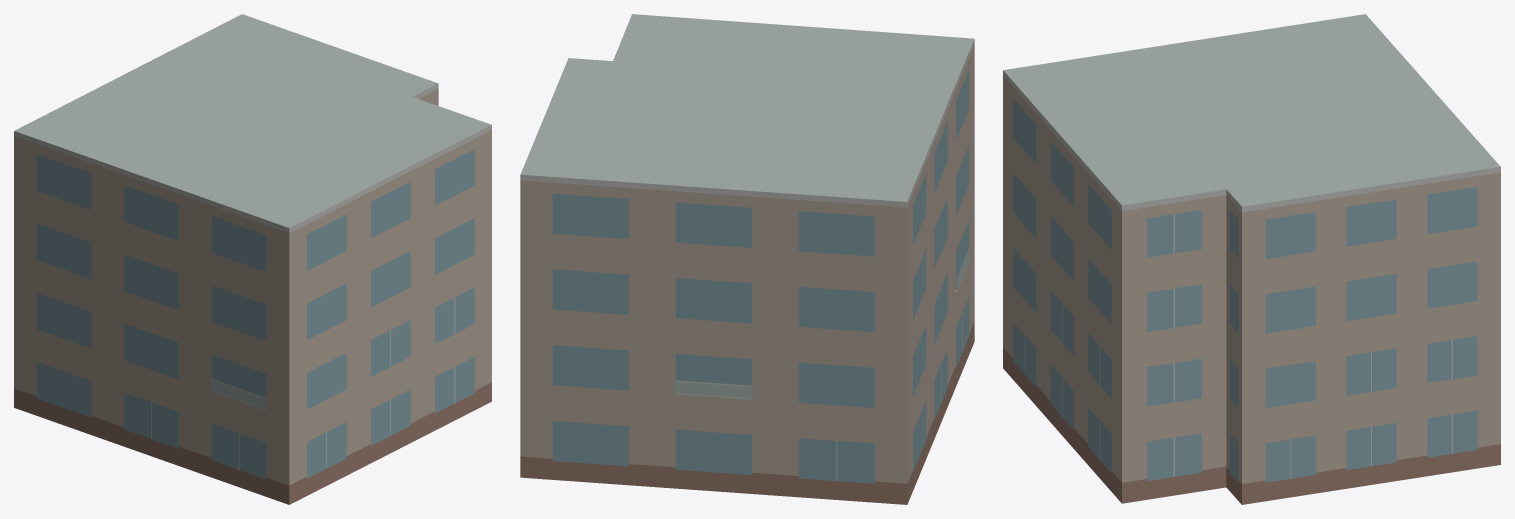
File: survey-upis-32920326.glb
3 renders of one model, left to right at view 1: azimuth 30°, elevation 25°; view 2: azimuth 150°, elevation 25°; view 3: azimuth 270°, elevation 25°, orthographic. The views are drawn at different scales.
Visible parts, largest first — view 1: survey-upis-32920326.tmp; view 2: survey-upis-32920326.tmp; view 3: survey-upis-32920326.tmp.
Part boxes in pixels (box(x1,y1,x2,y2)): survey-upis-32920326.tmp: box(14, 14, 491, 504); survey-upis-32920326.tmp: box(520, 14, 974, 504); survey-upis-32920326.tmp: box(1003, 14, 1500, 504).
Size of the model in its own units: 18.11 by 13.05 by 19.76.
